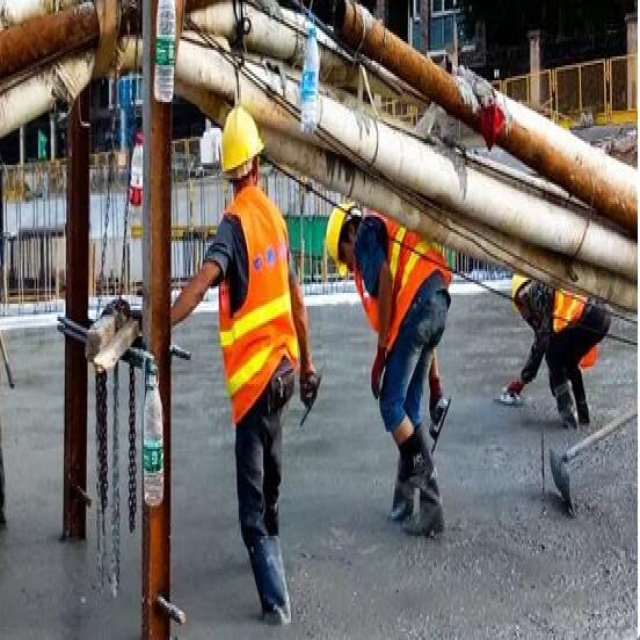Helmet: (205, 90, 276, 210), (317, 188, 372, 290)
Reflective vest: (210, 182, 319, 440), (352, 209, 456, 353), (547, 278, 606, 381)
